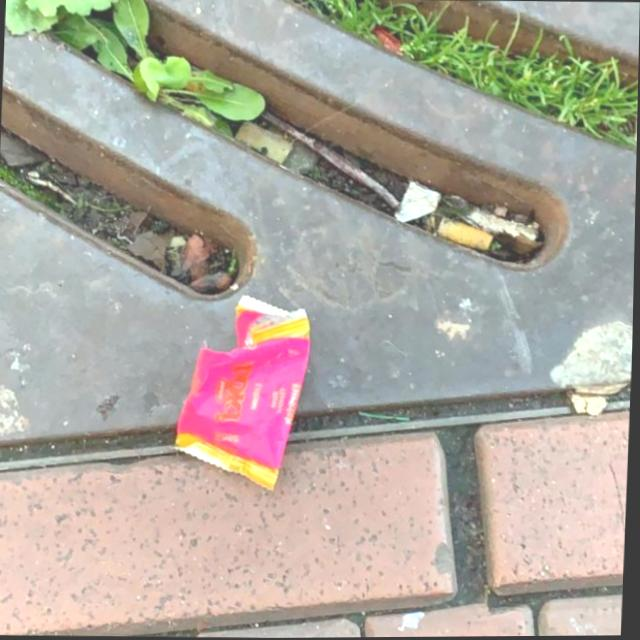Plastic: (168, 291, 316, 493)
